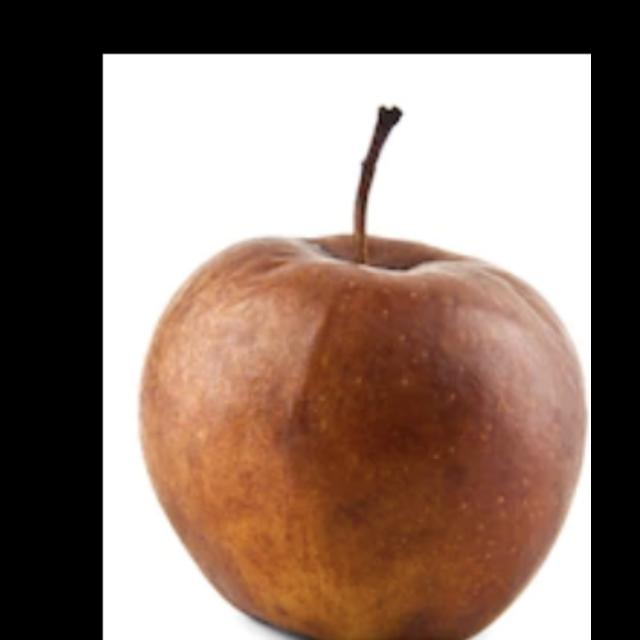Apel Tidak Segar: (132, 86, 590, 640)
